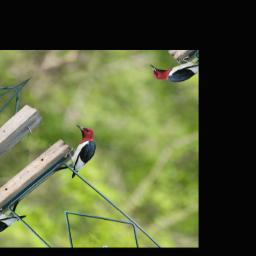Woodpecker: (42, 120, 111, 179)
